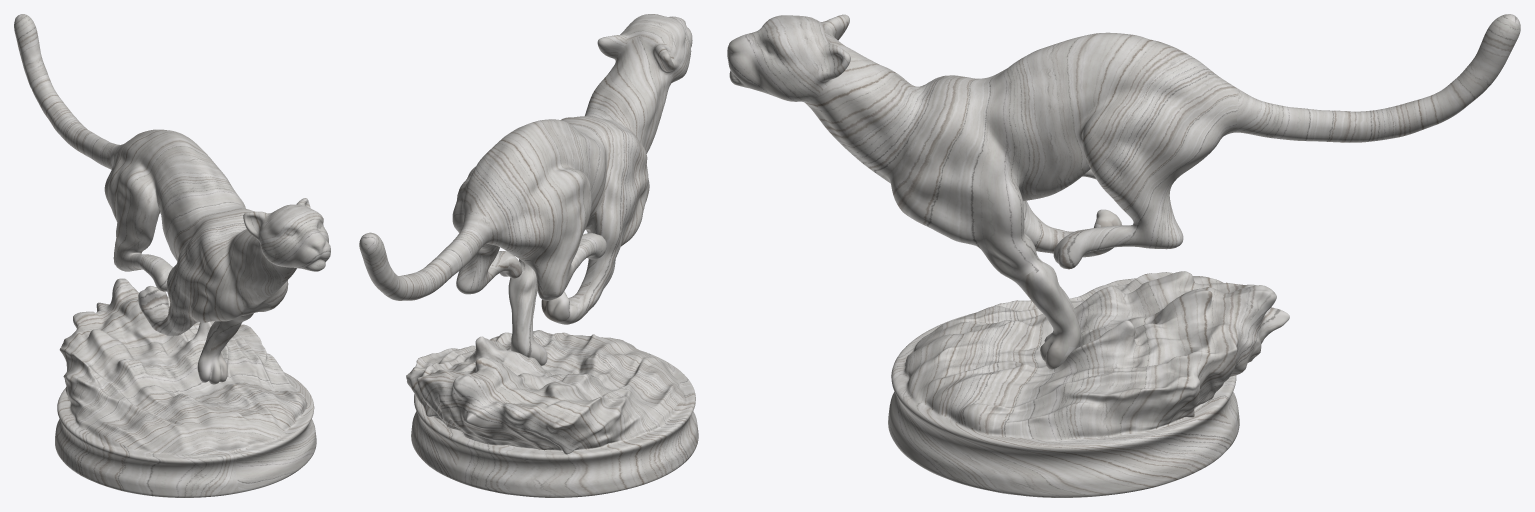
3 renders of one model, left to right at view 1: azimuth 30°, elevation 25°; view 2: azimuth 150°, elevation 25°; view 3: azimuth 270°, elevation 25°, orthographic. The views are drawn at different scales.
Parts seen in each view (by area): view 1: uploads_files_2434551_Guepard_OBJ; view 2: uploads_files_2434551_Guepard_OBJ; view 3: uploads_files_2434551_Guepard_OBJ.
Boxes of the visible parts, box(x1,y1,x2,y2) form: uploads_files_2434551_Guepard_OBJ: box(14, 14, 330, 497); uploads_files_2434551_Guepard_OBJ: box(359, 14, 698, 497); uploads_files_2434551_Guepard_OBJ: box(727, 14, 1520, 497).
Bounding box in the file's own units: 2.83 × 3.65 × 6.38.
1 material, 1 textured.
